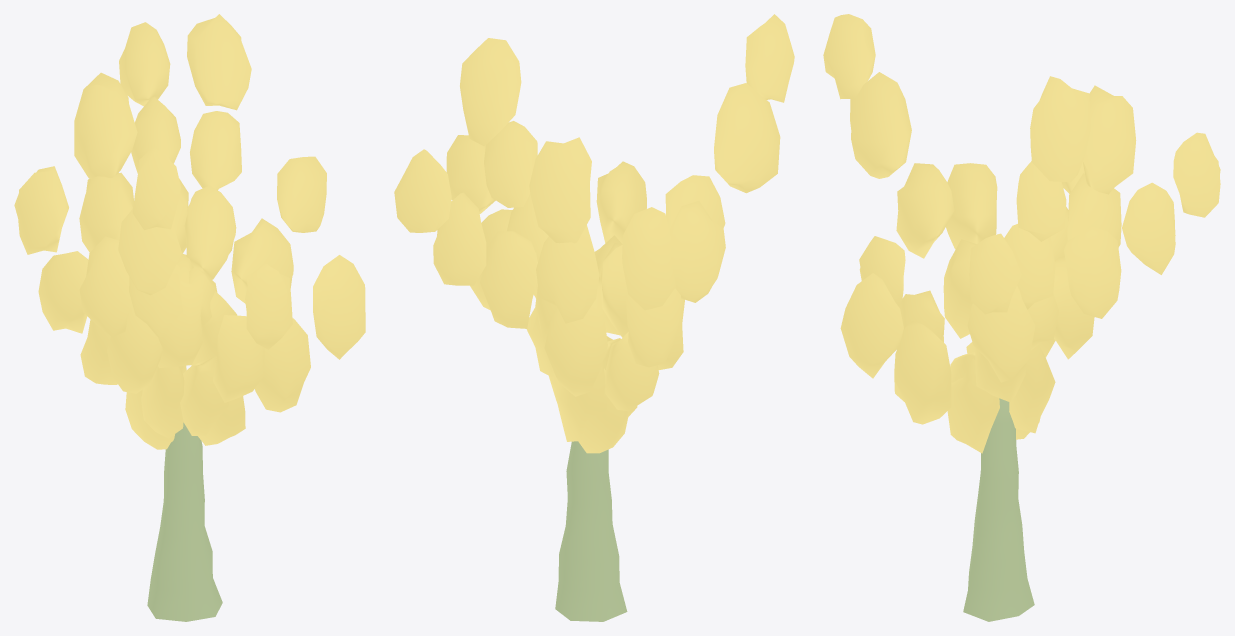
The model's file is Blender_Cholla_1.glb.
3 renders of one model, left to right at view 1: azimuth 30°, elevation 25°; view 2: azimuth 150°, elevation 25°; view 3: azimuth 270°, elevation 25°, orthographic. The views are drawn at different scales.
Visible parts, largest first — view 1: Blender_Cholla_1; view 2: Blender_Cholla_1; view 3: Blender_Cholla_1.
Boxes of the visible parts, <box> form: Blender_Cholla_1: <box>14,14,365,621</box>; Blender_Cholla_1: <box>394,14,794,621</box>; Blender_Cholla_1: <box>823,14,1220,621</box>.
Size of the model in its own units: 0.8043 by 1.65 by 1.06.
